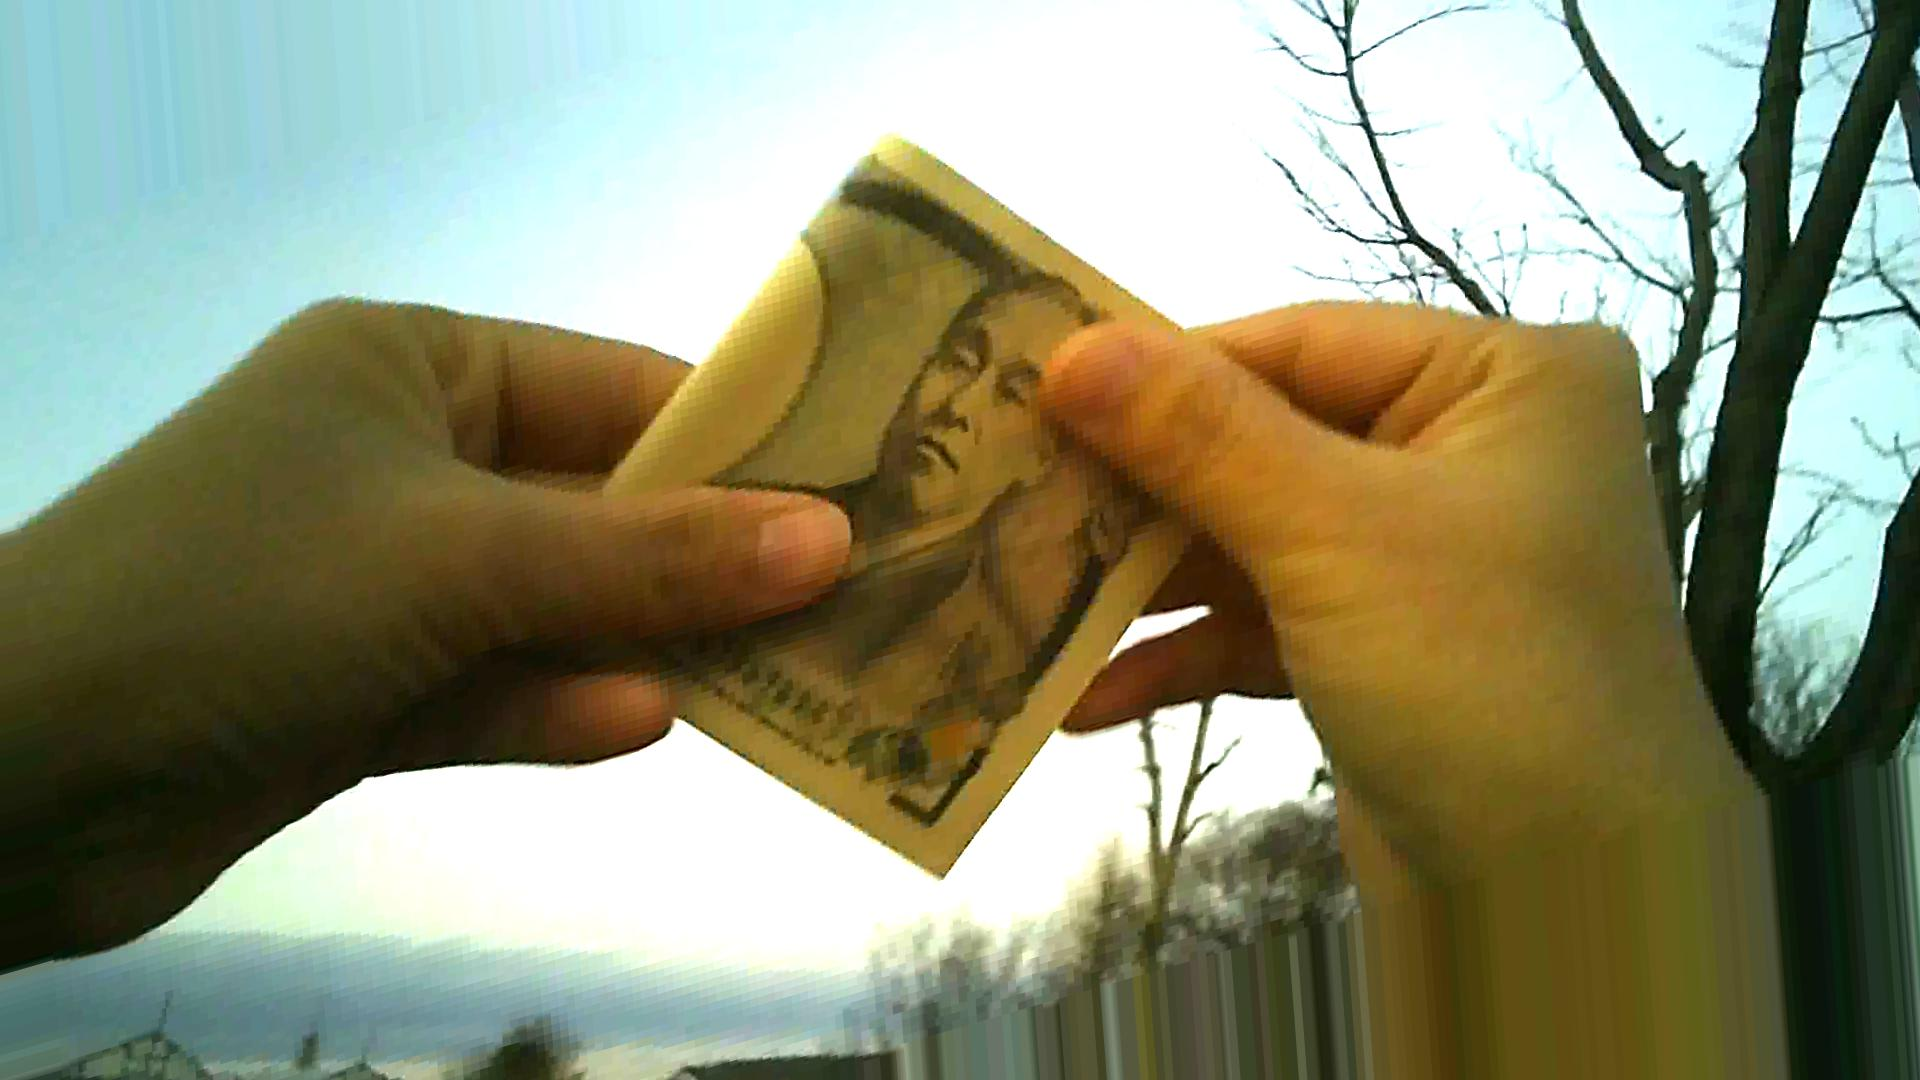10,000 Yen: (545, 138, 1201, 869)
